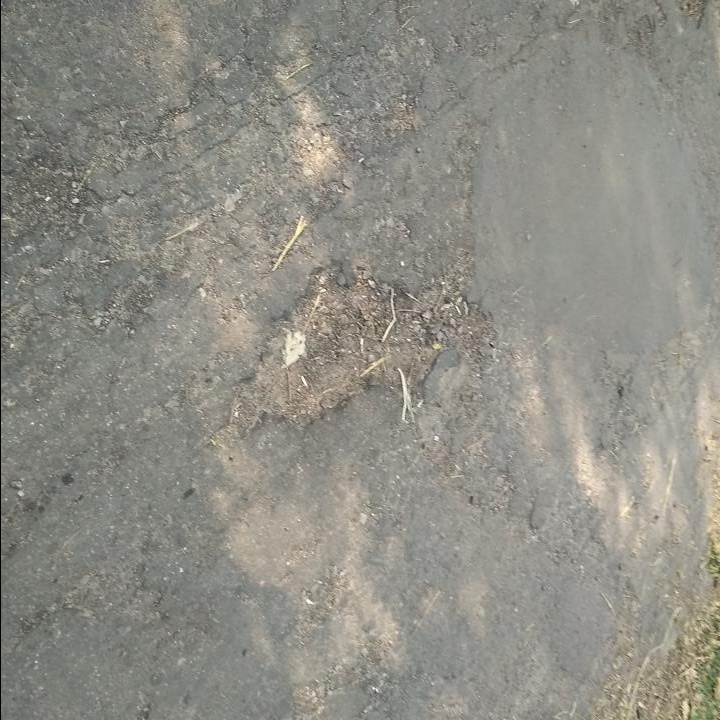pothole: (223, 253, 499, 445)
